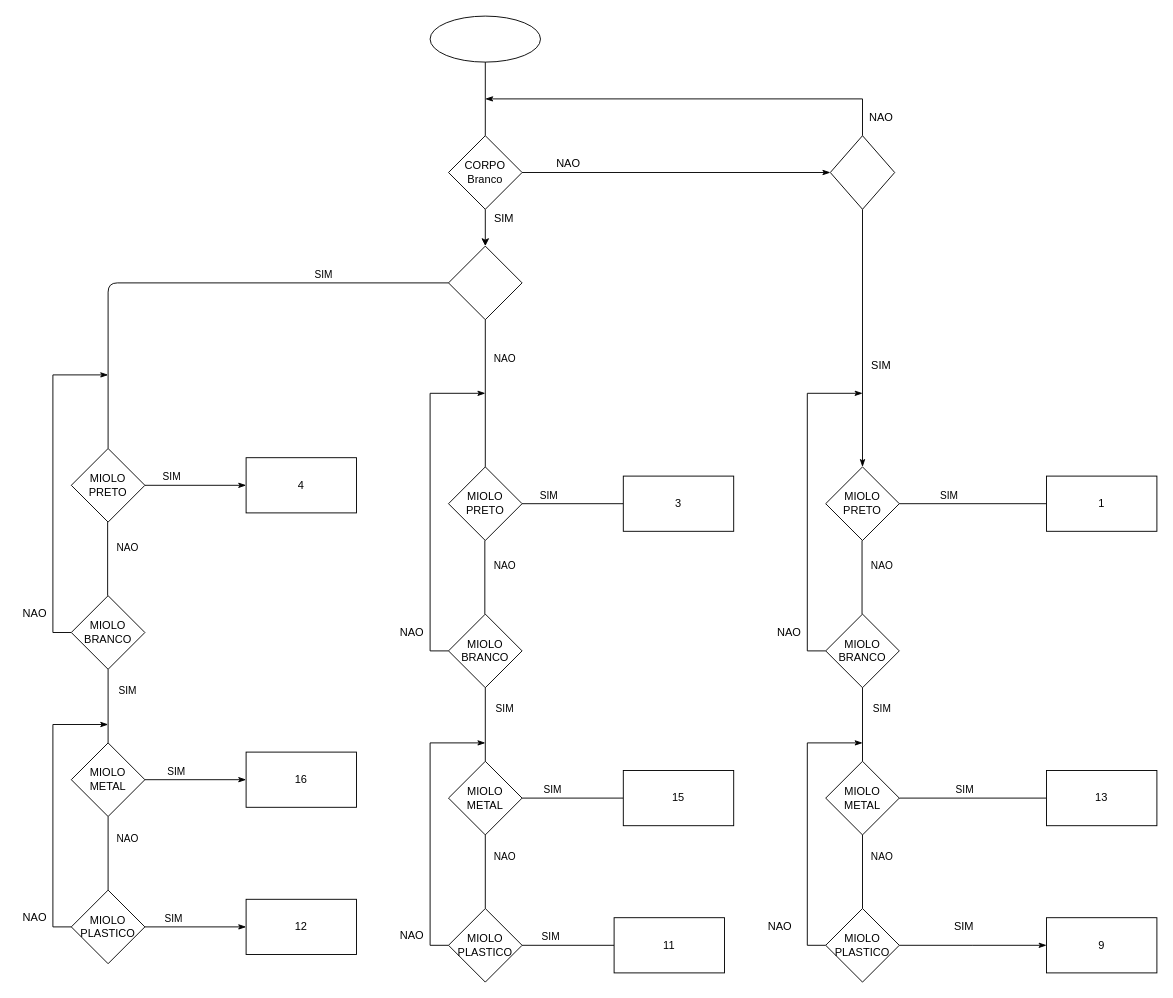
This 1173x998 diagram has some shape labels left out. The box of each missing label's shape, as (x1, y1, x2, y2) in pixels:
CORPO METAL: (448, 245, 522, 320)
CORPO Preto: (829, 135, 895, 209)
INICIO: (429, 15, 540, 62)
